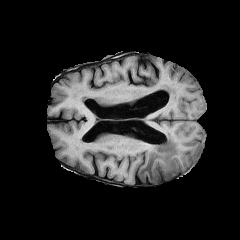glioma: (140, 131, 179, 180)
